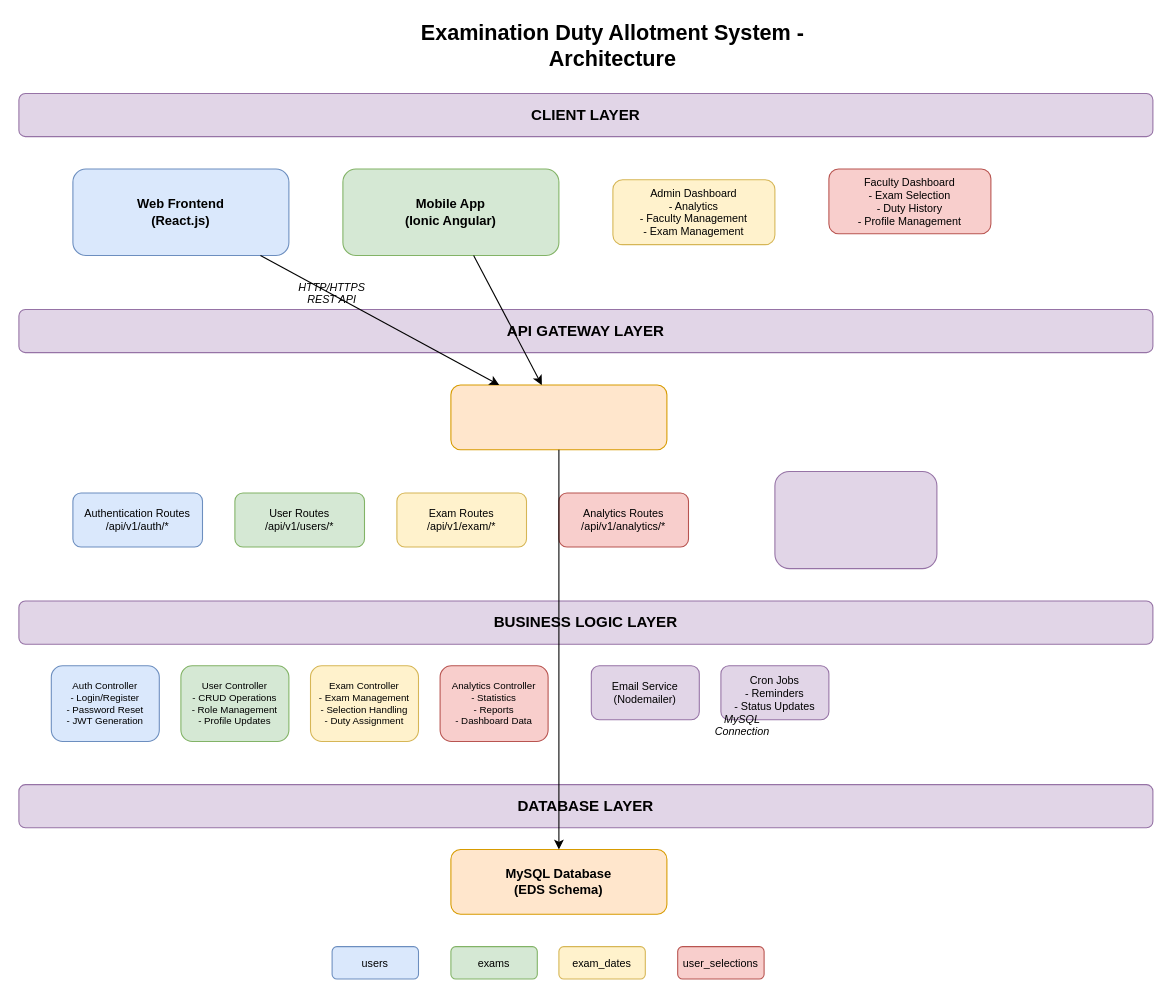
This 1172x998 diagram has some shape labels left out. Each missing label, with the centre of its shape:
"Express.js Server (Node.js)" belongs at [558,417].
"Middleware Layer - JWT Verification - CORS - Body Parser - Error Handling" belongs at [855,519].
